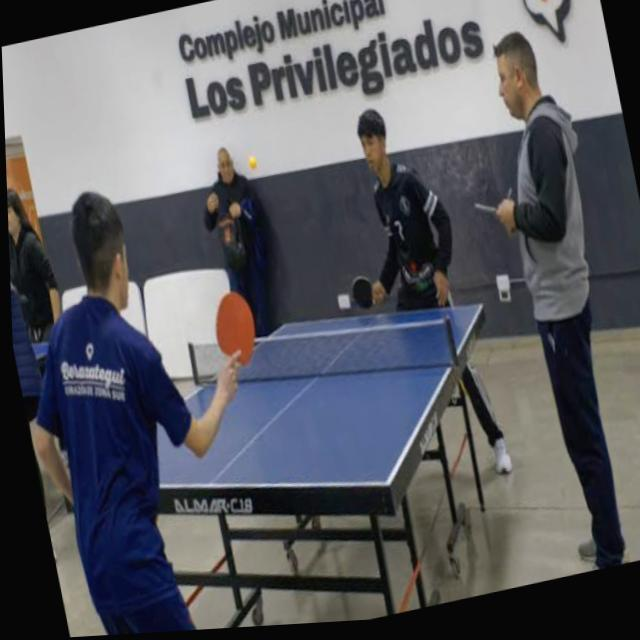TT Net: (184, 315, 461, 390)
TT Racket: (211, 282, 260, 375), (346, 273, 378, 311)
TT Table: (71, 303, 482, 489)
